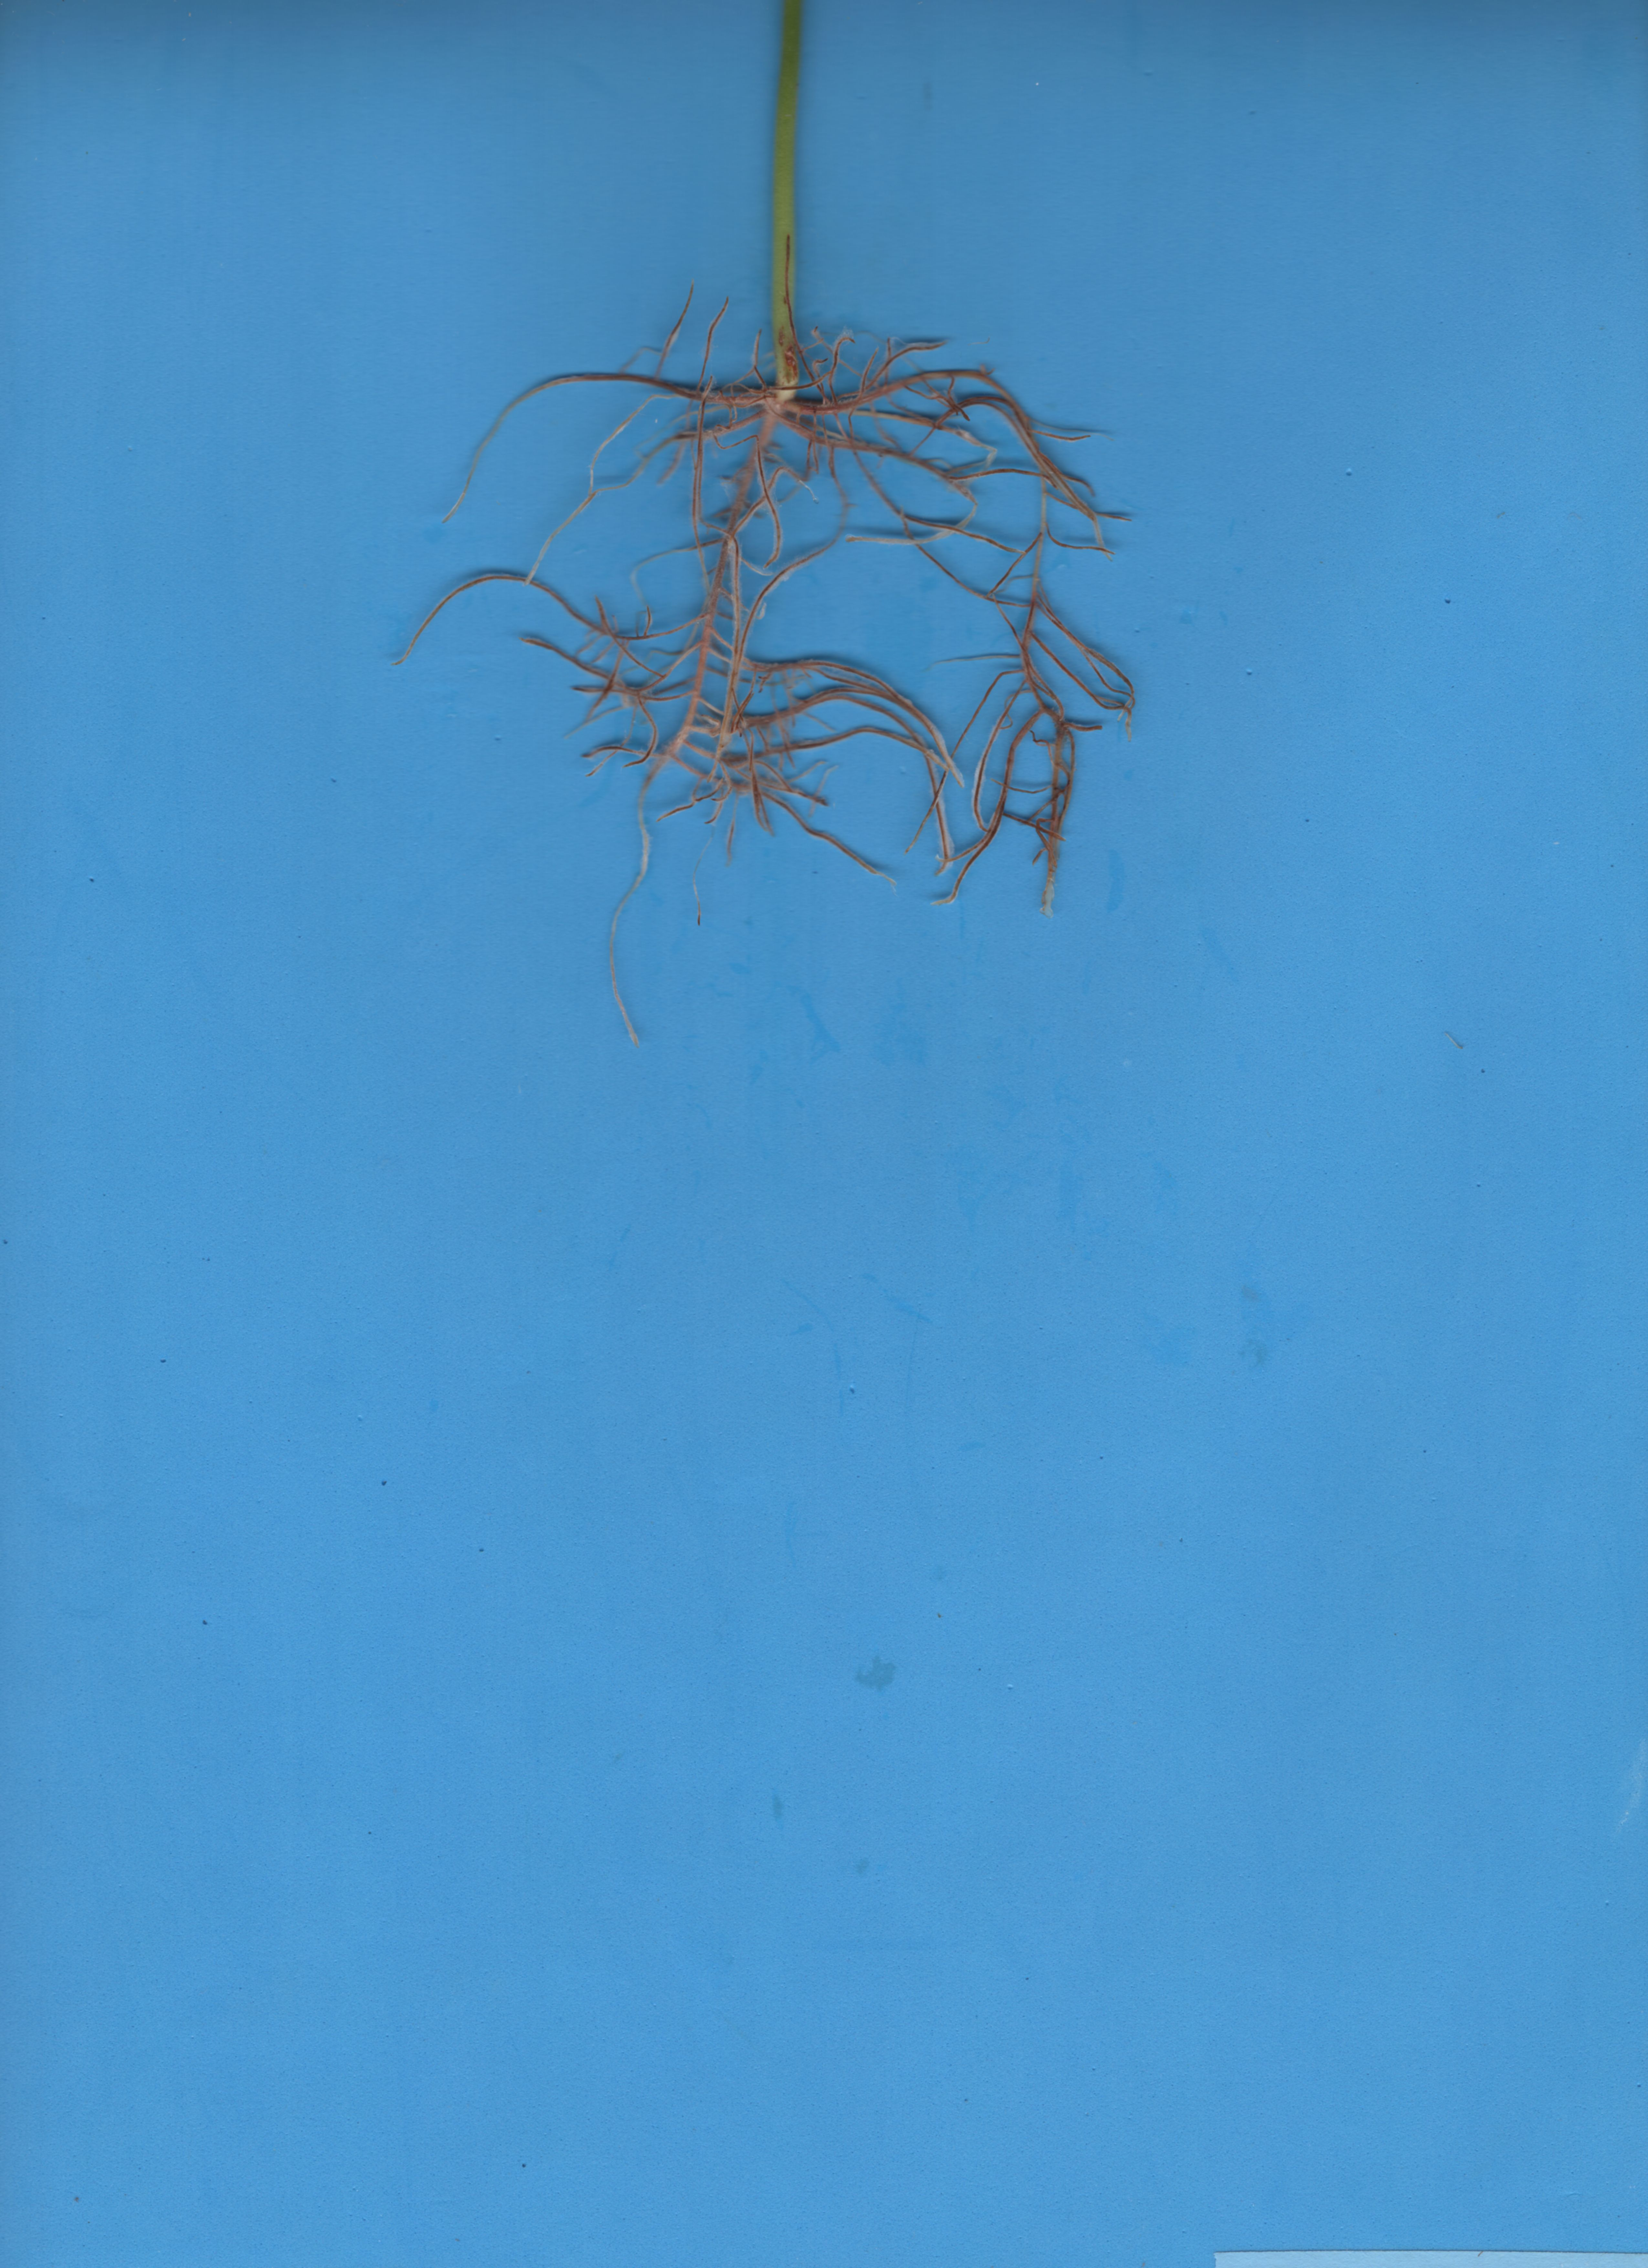CROWNGOOD: (717, 0, 835, 366)
ROOTDISEASE: (350, 326, 1150, 1104)
